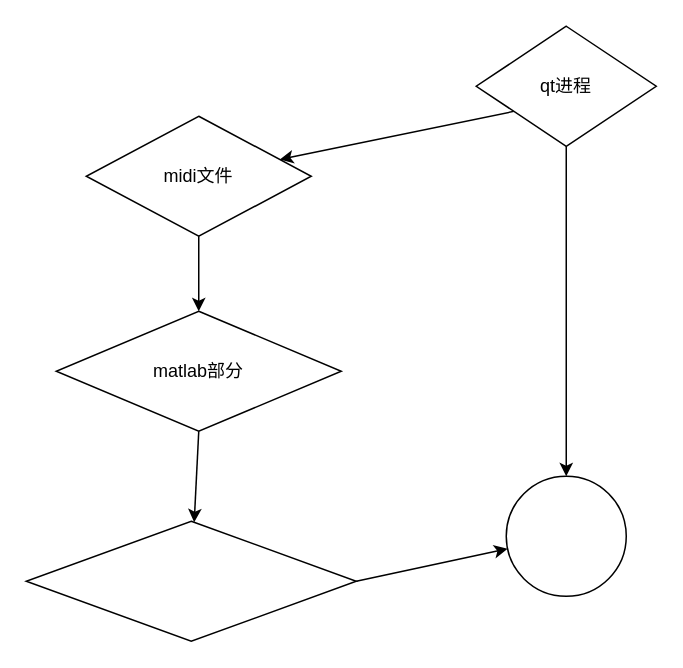
Some shapes in this 683 by 668 pixel diagram are drawn without their labels. The centre of each missing label's shape, as x and y in pixels:
"ui界面 （实现进度条等功能）" belongs at (565,535).
"同名wav+ 详细文件" belongs at (190,580).
